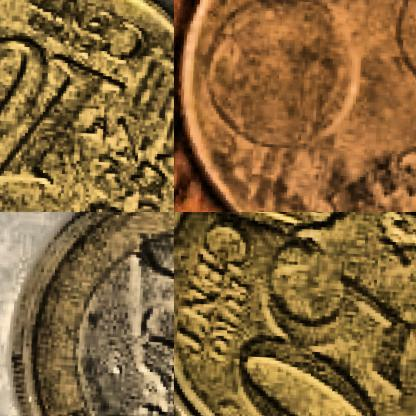coin: (174, 0, 415, 211), (174, 212, 415, 415), (0, 0, 173, 211), (3, 212, 173, 415)
